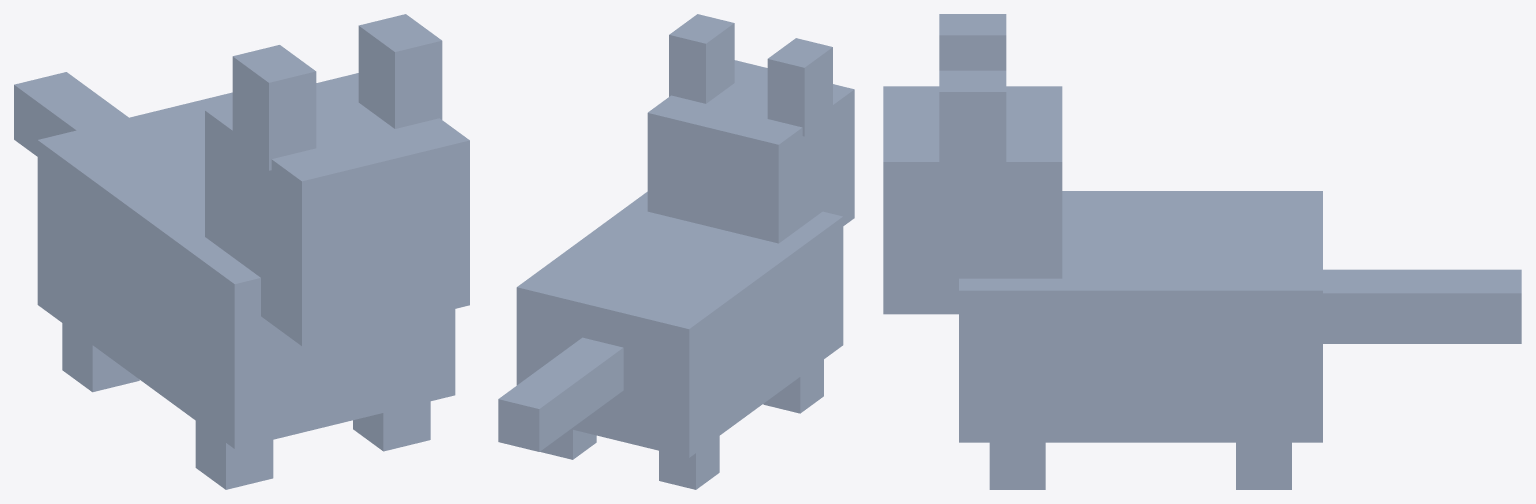
3 views of the same model, side by side, from view 1: azimuth 30°, elevation 25°; view 2: azimuth 150°, elevation 25°; view 3: azimuth 270°, elevation 25° (orthographic). The views are drawn at different scales.
Visible parts, largest first — view 1: placeholder_cat; view 2: placeholder_cat; view 3: placeholder_cat.
Part boxes in pixels (box(x1,y1,x2,y2)): placeholder_cat: box(14, 14, 469, 489); placeholder_cat: box(498, 14, 854, 489); placeholder_cat: box(883, 14, 1521, 489).
Bounding box in the file's own units: 0.42 × 0.77 × 1.14.
